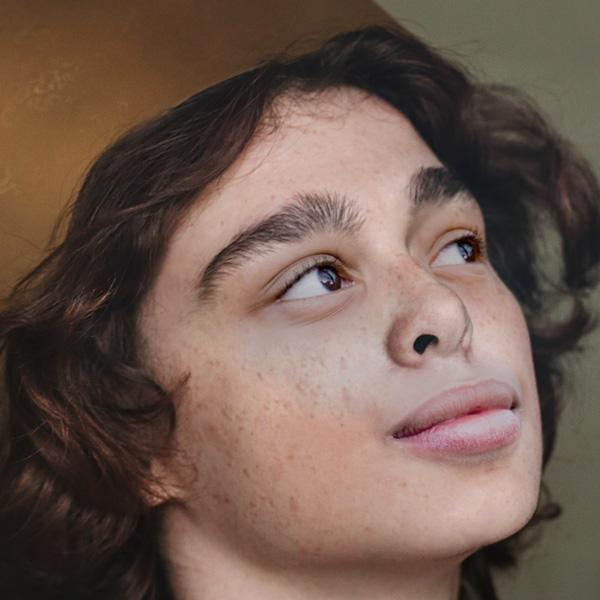Eyes: (254, 244, 369, 319), (421, 218, 493, 278)
